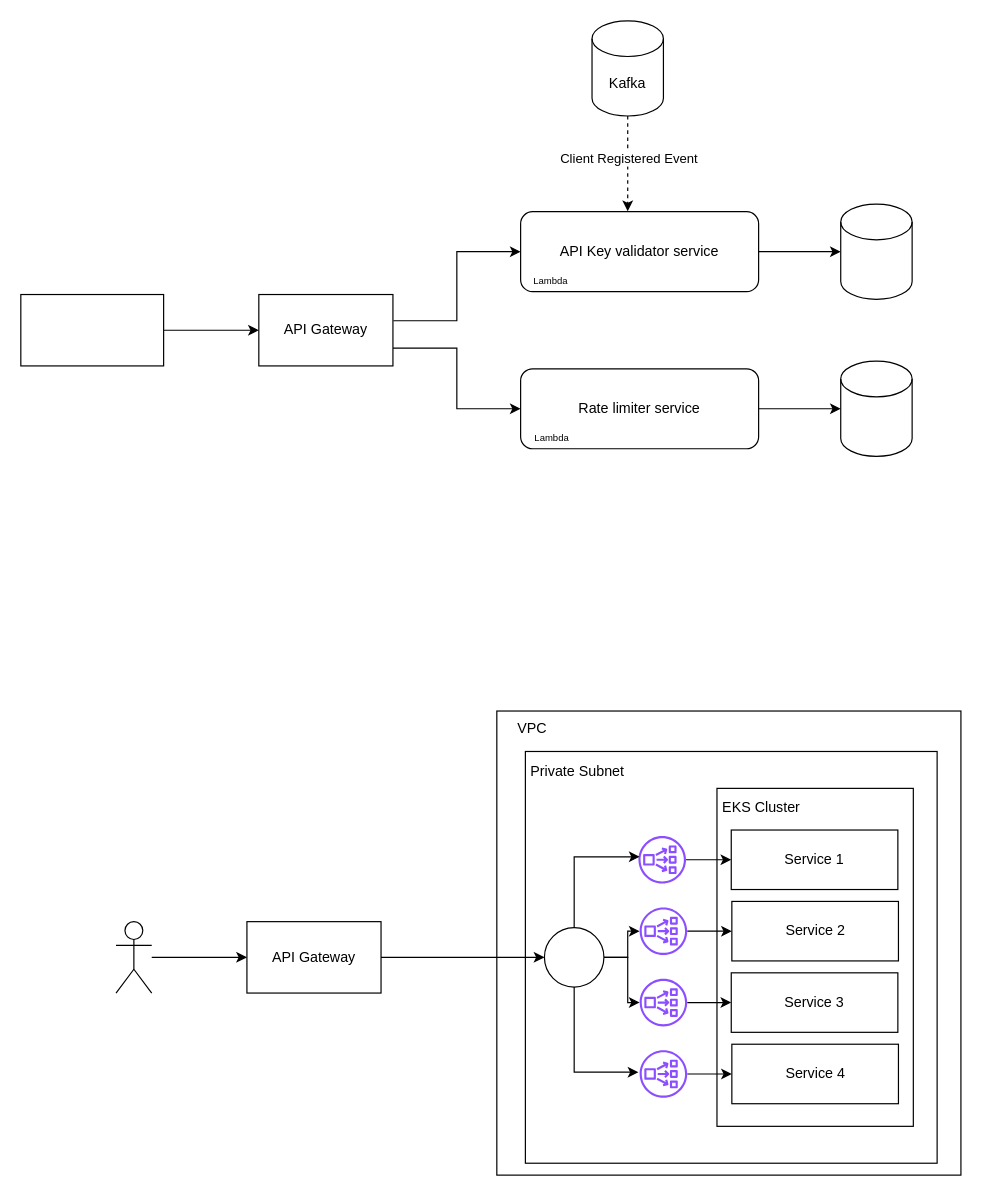
This 982x1196 diagram has some shape labels left out. Here are the shapes that lost their labels. From the top down, the centre of each, then its label:
At (876,251): "Dynamo DB".
At (92,329): "Client HRM System".
At (876,408): "Redis DB".
At (133,956): "User".
At (573,956): "VPC Link".
